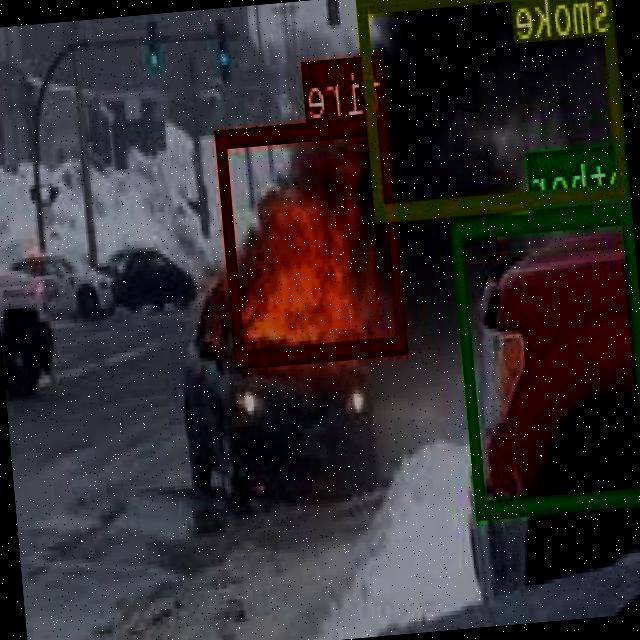fire: (217, 115, 408, 362)
smoke: (358, 0, 630, 219)
